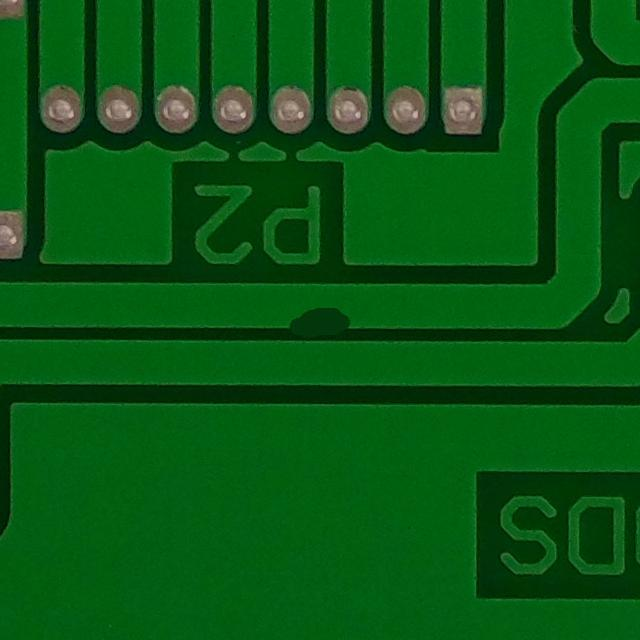mouse_bite: (278, 287, 363, 354)
